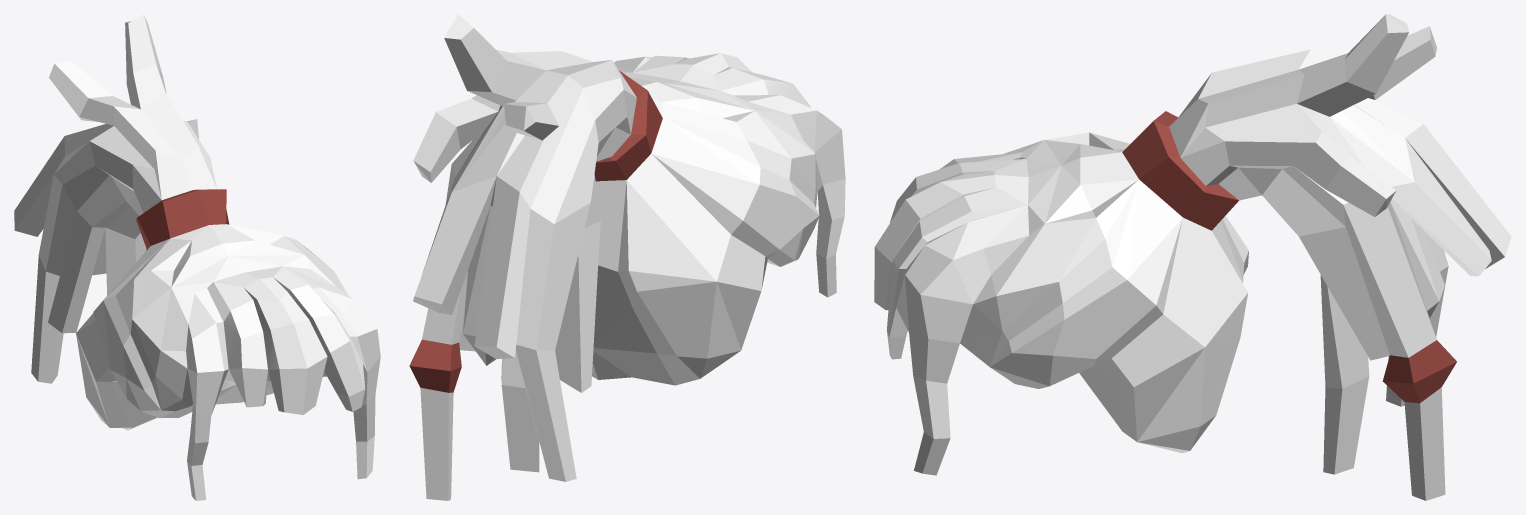
Rendered from SM_Chr_Attach_Hair_F_03.fbx.
3 renders of one model, left to right at view 1: azimuth 30°, elevation 25°; view 2: azimuth 150°, elevation 25°; view 3: azimuth 270°, elevation 25°, orthographic. The views are drawn at different scales.
Parts seen in each view (by area): view 1: SM_Chr_Attach_Hair_F_03; view 2: SM_Chr_Attach_Hair_F_03; view 3: SM_Chr_Attach_Hair_F_03.
Part boxes in pixels (box(x1,y1,x2,y2)): SM_Chr_Attach_Hair_F_03: box(14, 14, 380, 500); SM_Chr_Attach_Hair_F_03: box(409, 14, 845, 500); SM_Chr_Attach_Hair_F_03: box(874, 14, 1511, 500).
Bounding box in the file's own units: 27 × 44.77 × 53.49.
